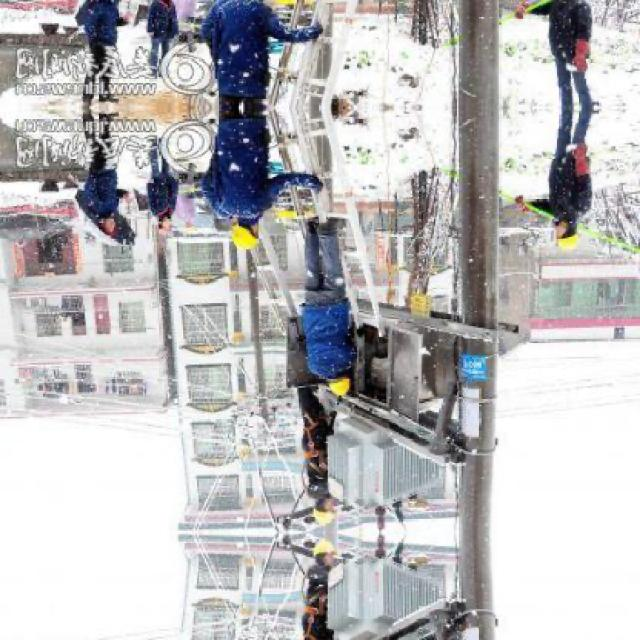con casco: (521, 200, 603, 258), (203, 189, 272, 255), (314, 371, 370, 414)
